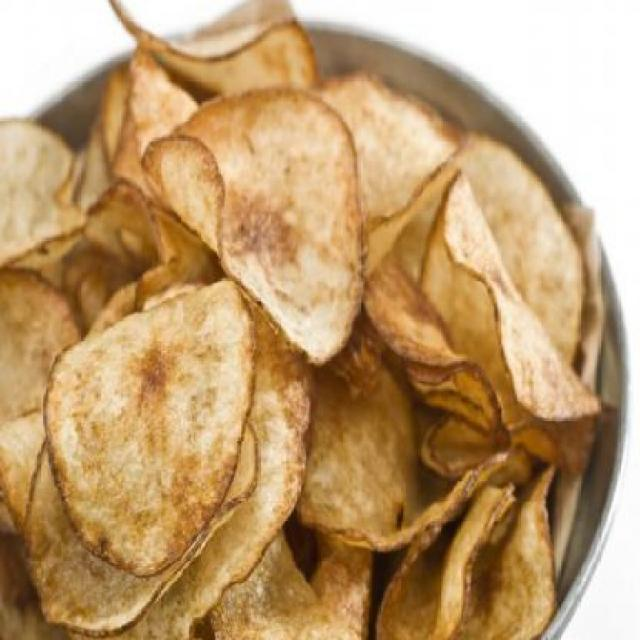Chips packaged: (16, 102, 538, 634)
